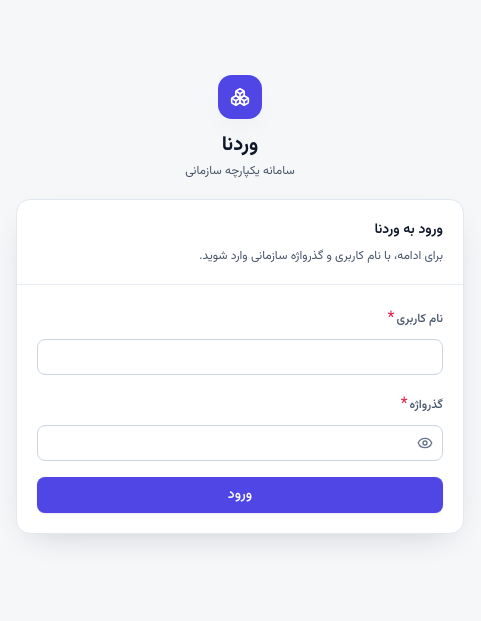
it: login flow › shows the generic server rejection without guessing the reason
The image size is (481, 621).
Type "accountant" into the field labelled "نام کاربری" at (240, 356), box x1=37 y1=338 x2=443 y2=374
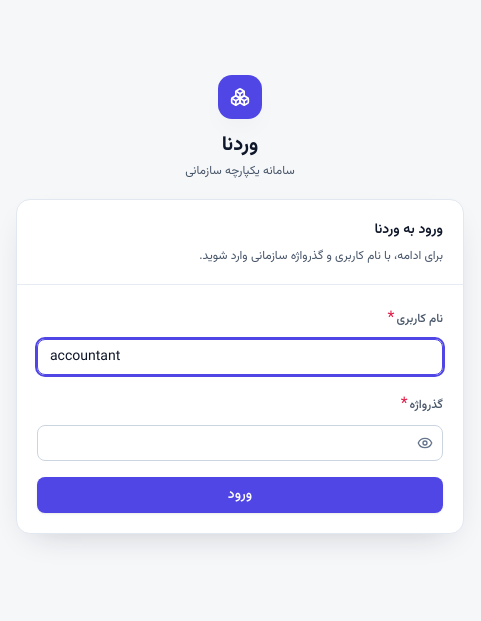
Type "wrong-password" into the password field labelled "گذرواژه" at (240, 442), box x1=37 y1=424 x2=443 y2=460
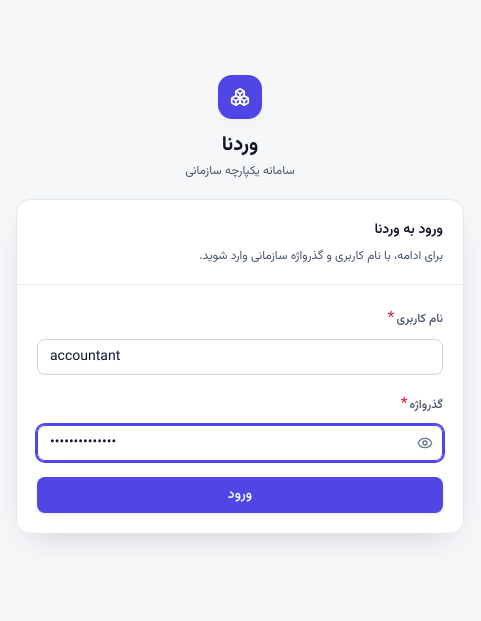
Click the button "ورود" at (240, 494), box x1=37 y1=476 x2=443 y2=512
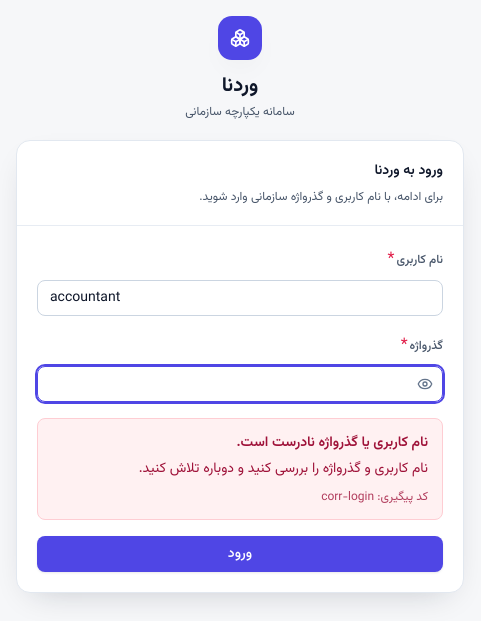
Now the text "نام کاربری یا گذرواژه نادرست است." is shown, box x1=236 y1=432 x2=428 y2=454
Now the text "corr-login" is shown, box x1=321 y1=488 x2=374 y2=506
